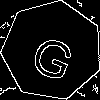G: (27, 25, 82, 84)
